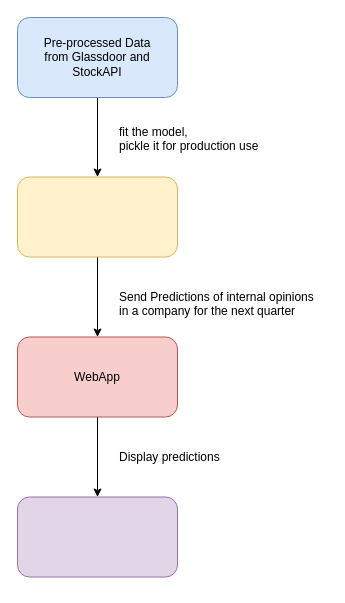
This 345x603 diagram has some shape labels left out. Each missing label, with the centre of its shape:
C-suite Seniors: point 97,536
Pickled Models (GBR/RNN): point 97,216
